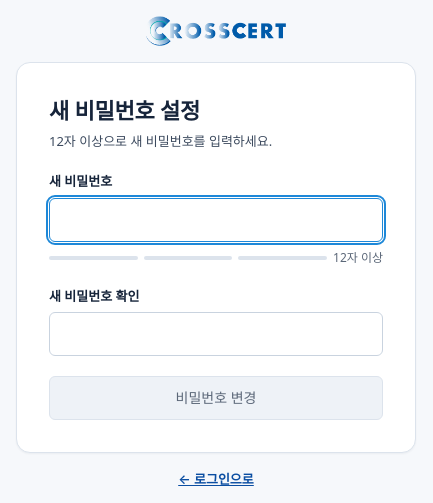
Test: ResetPasswordPage V3 › 토큰 관련 400 은 만료 카드 + 재설정 링크 다시 받기, 입력 폼은 사라진다
Type "password-12chars" into the password field labelled "새 비밀번호" at [216, 220], box [49,198,383,242]
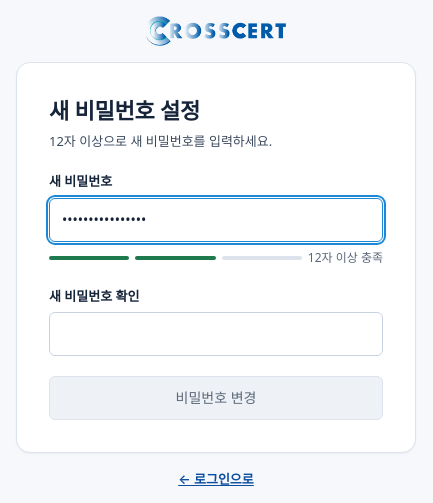
Type "password-12chars" into the password field labelled "새 비밀번호 확인" at [216, 334], box [49,312,383,356]
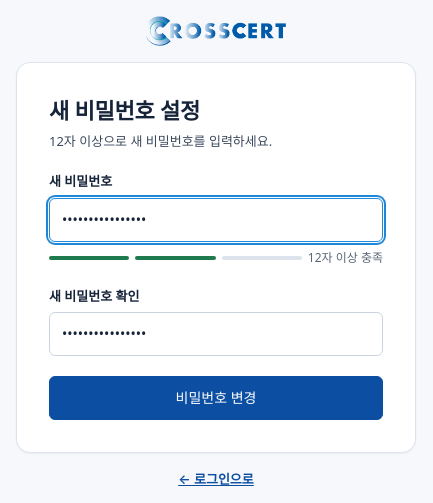
Click the button "비밀번호 변경" at [216, 398], box [49,376,383,420]
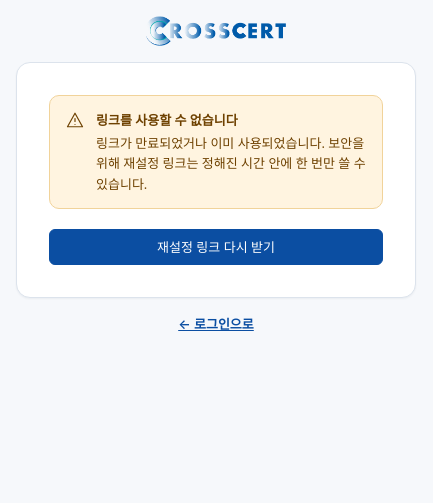
Check: the link "← 로그인으로" is shown, box [178,314,254,334]
Check: the message shows "링크가 만료되었거나 이미 사용되었습니다", box [96,134,366,193]
Check: the password field is gone
